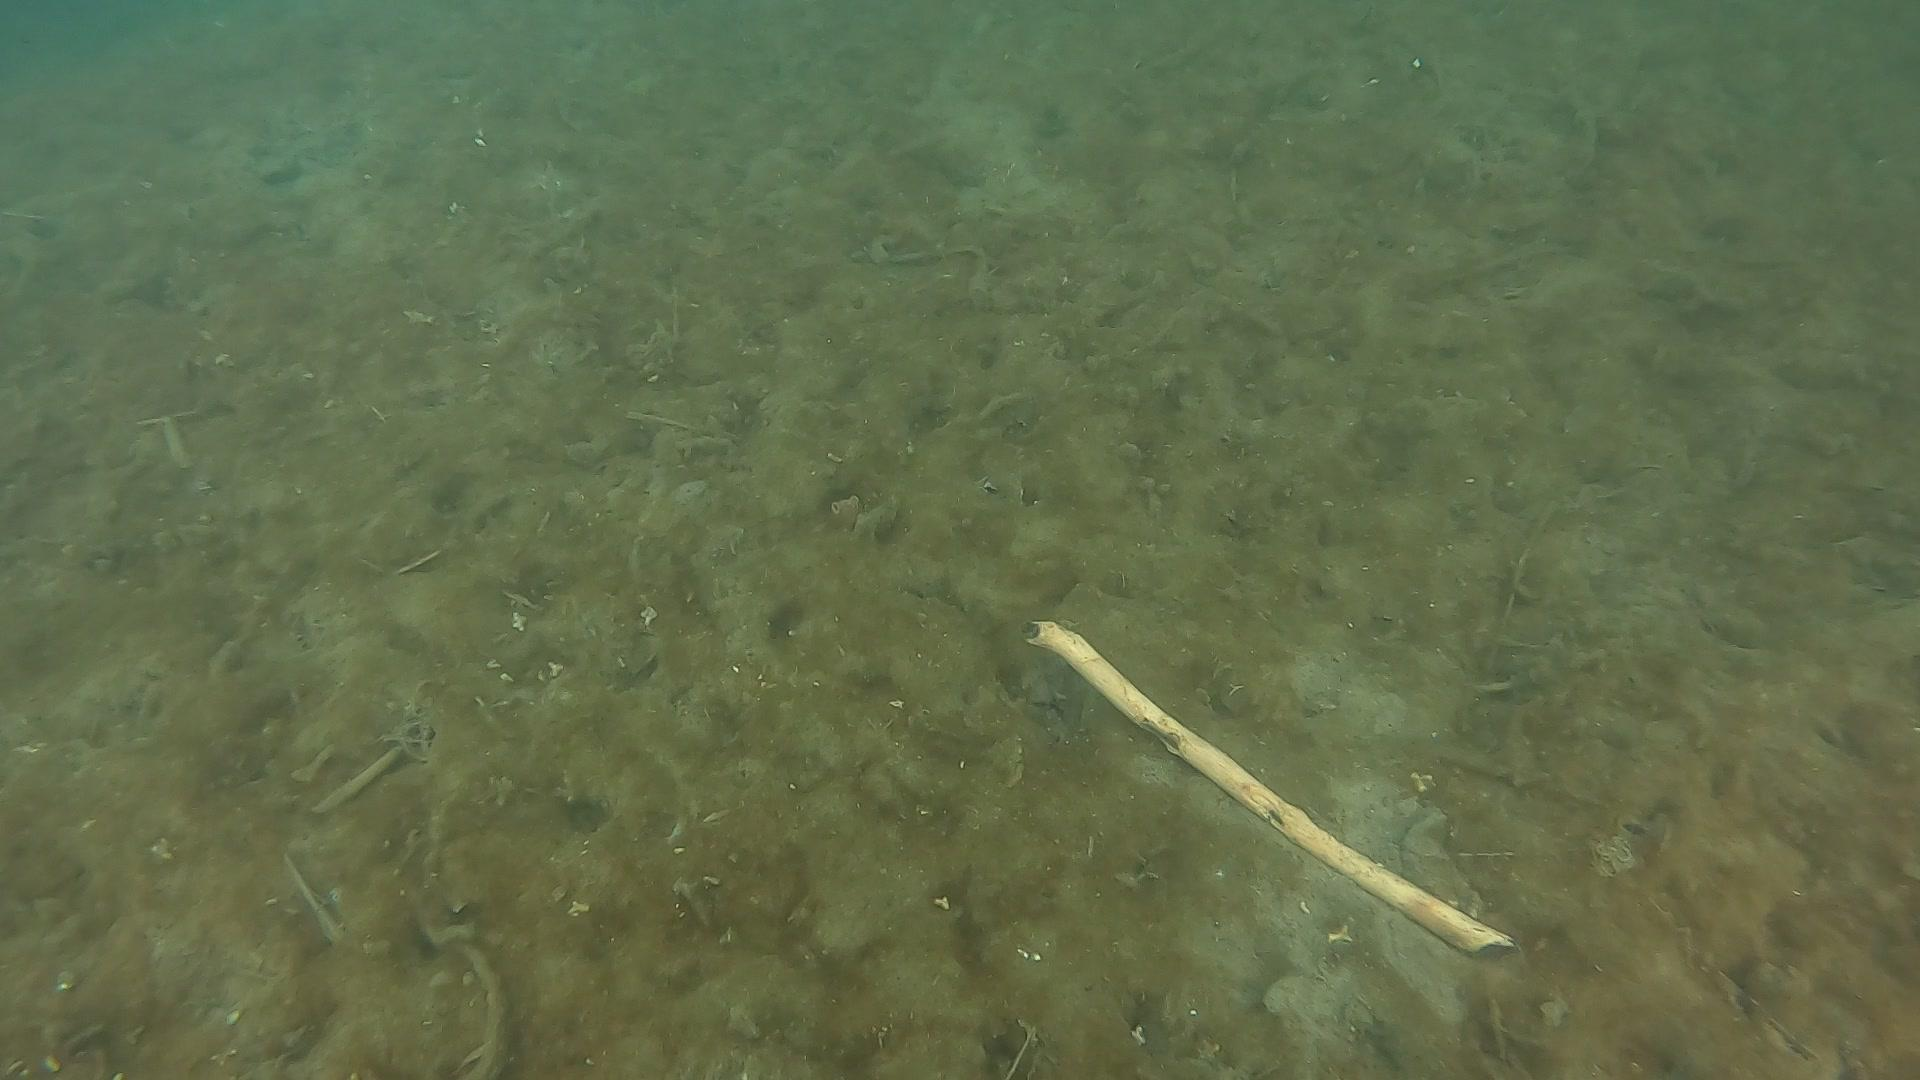wood: (1015, 617, 1522, 959)
